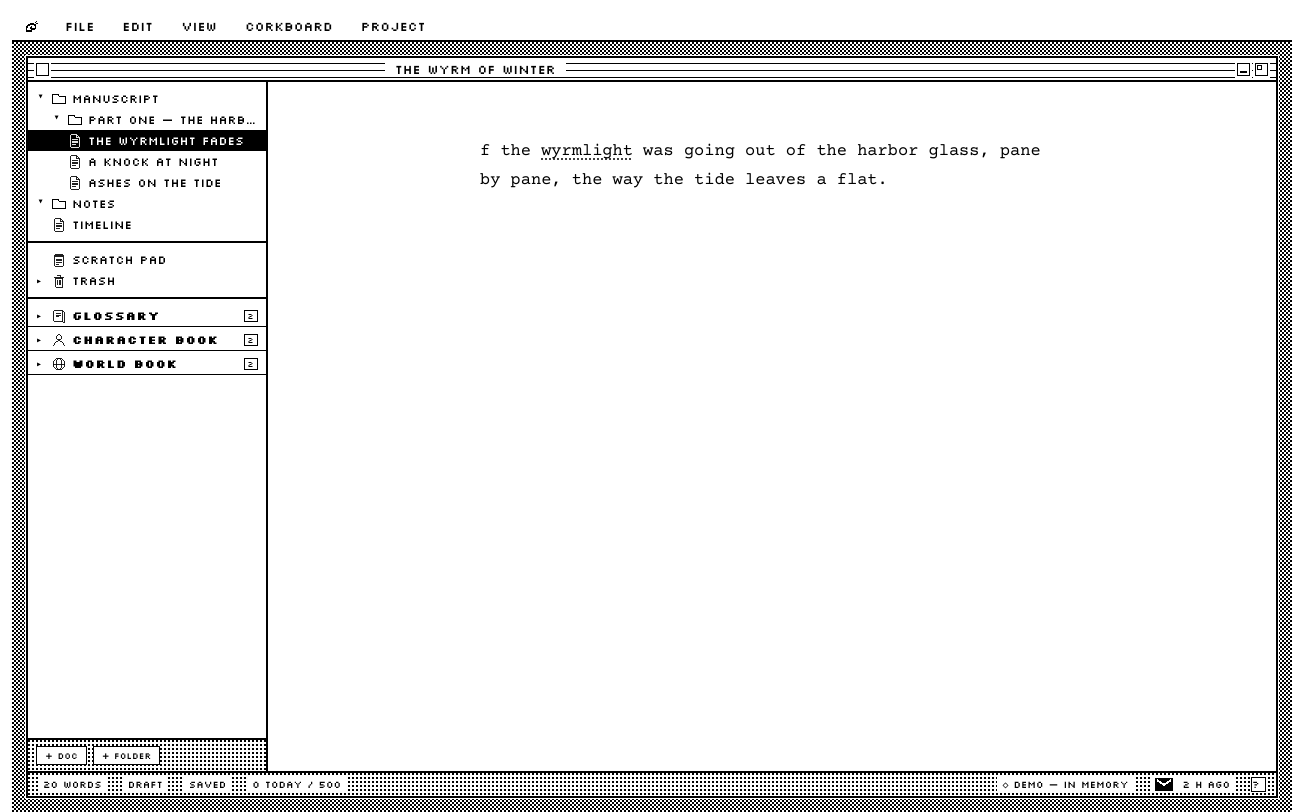
it: from the page › does nothing from a tag field, where the page keeps a selection nobody can see
The width and height of the screenshot is (1292, 812).
Press x in the field with class "tag-input"
Press the mouse on the menu item with class "menu-title" showing "Edit" at (138, 26), box [108,12,167,40]
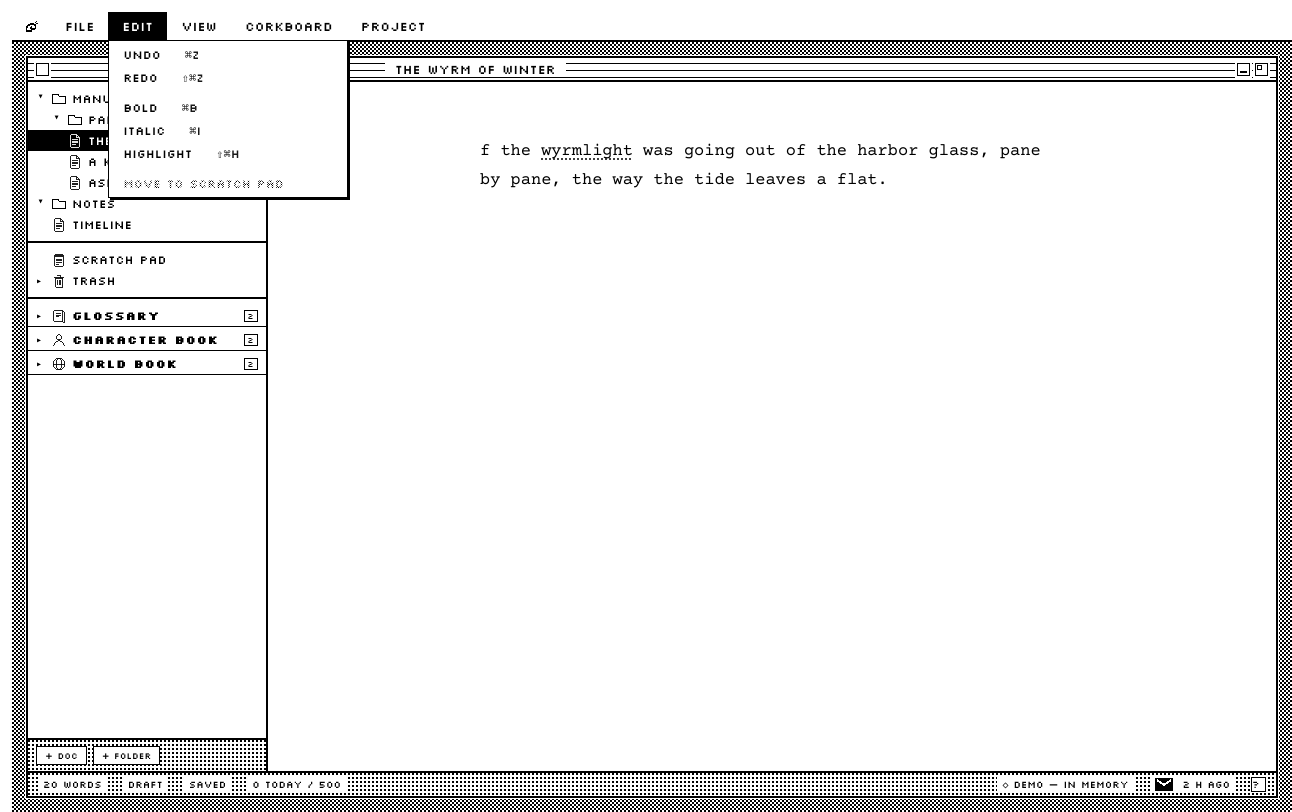
Result: the menu item with class "menu-item" showing "Move to Scratch Pad ⇧⌘X" is disabled at [109,172,347,195]
